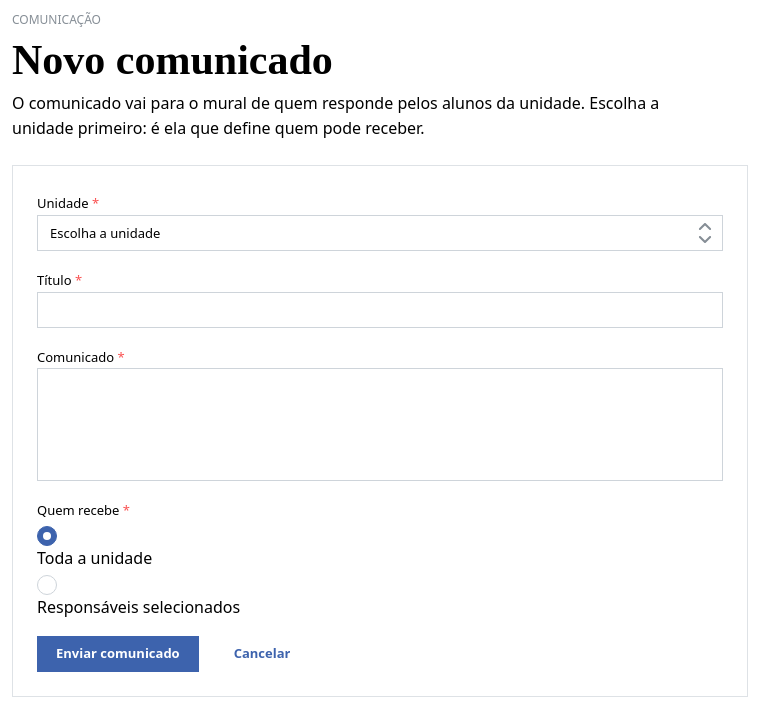
Test case: AnnouncementForm › changing the school clears what was ticked and asks again, instead of sending ids of a unit the person is no longer looking at
The width and height of the screenshot is (765, 714).
Select "Escola Central" in the dropdown labelled "Unidade" at {"x": 380, "y": 233}, box [37,215,723,251]
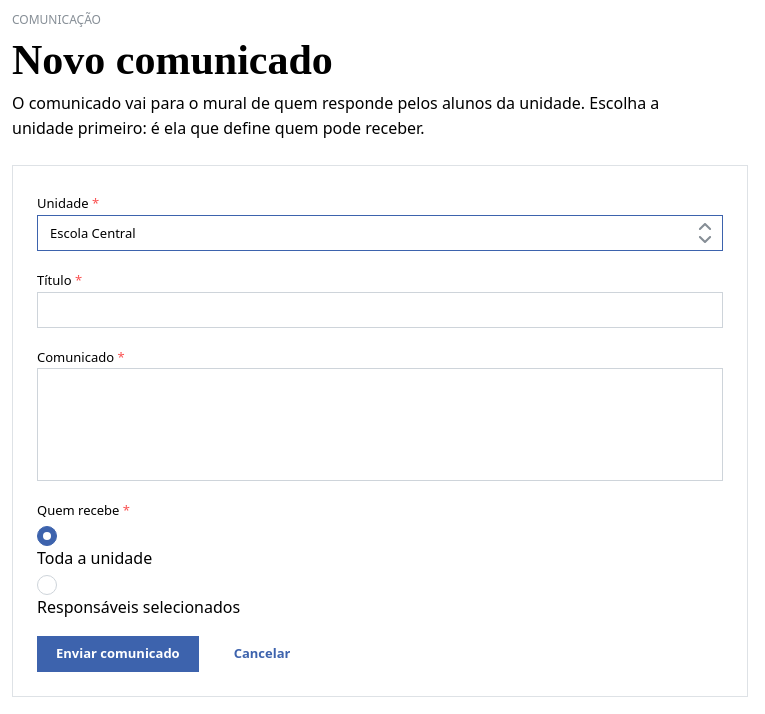
Click the radio button labelled "Responsáveis selecionados".
click(47, 585)  # box [37,575,57,595]
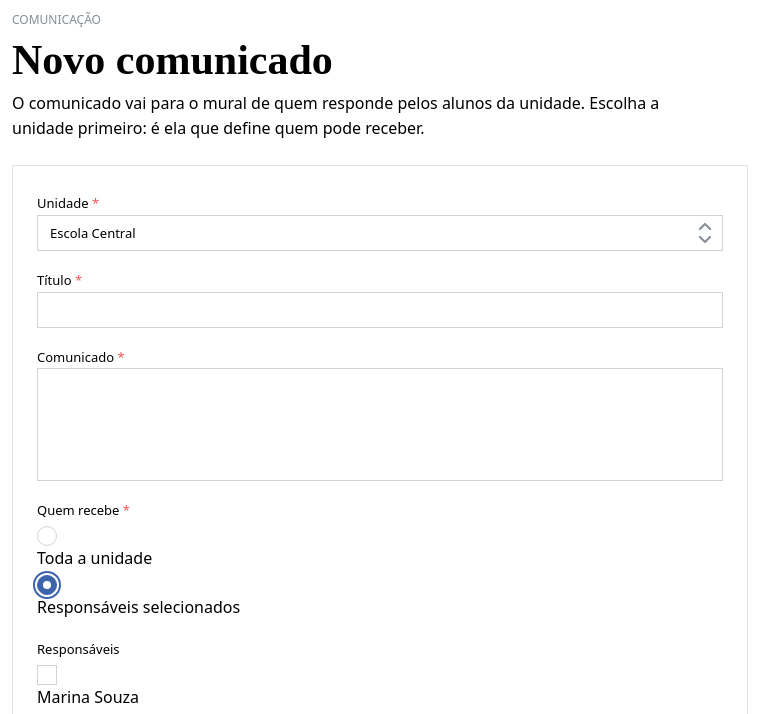
Click the checkbox labelled "Marina Souza".
click(47, 675)  # box [37,665,57,685]
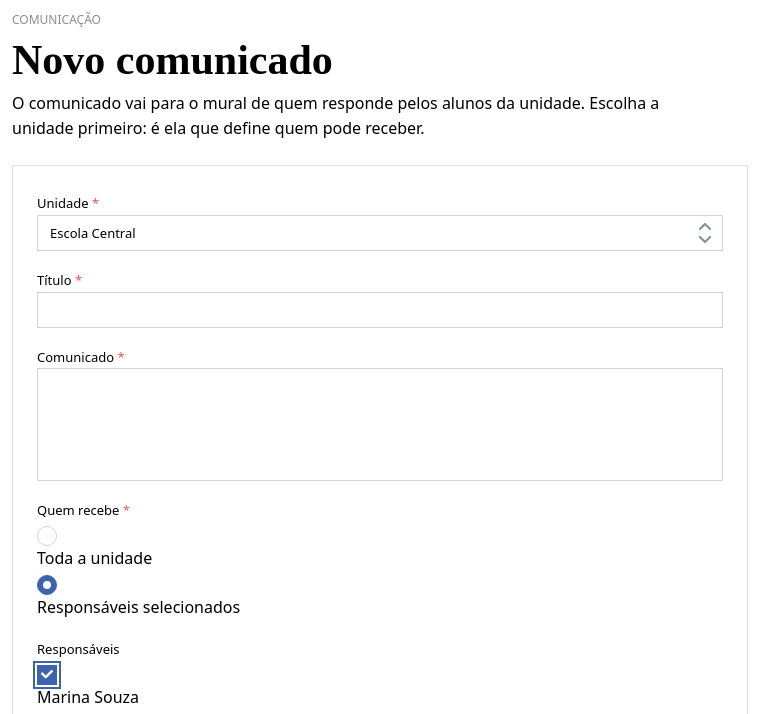
Now the checkbox labelled "Marina Souza" is checked, box [37,665,57,685]
Select "Escola do Bairro" in the dropdown labelled "Unidade" at {"x": 380, "y": 233}, box [37,215,723,251]
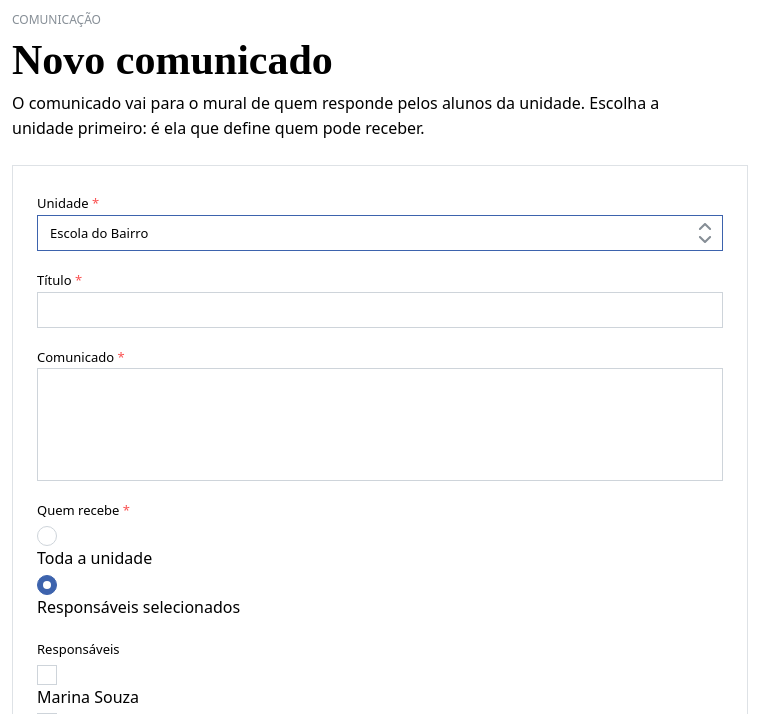
Now the checkbox labelled "Marina Souza" is not checked, box [37,665,57,685]
